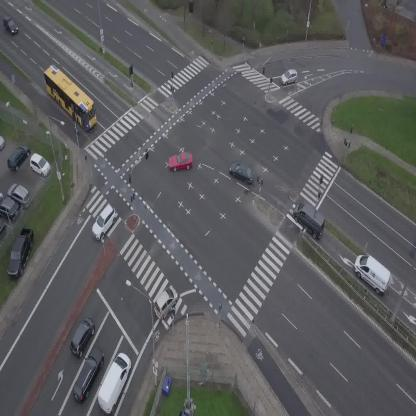bus: (35, 62, 106, 133)
car: (68, 344, 109, 406), (65, 315, 100, 358), (85, 203, 122, 242), (148, 283, 183, 321), (226, 158, 258, 185), (167, 151, 194, 173), (0, 15, 21, 38), (279, 69, 299, 86)
lorry: (92, 350, 137, 416), (347, 249, 398, 297), (287, 197, 333, 243)
